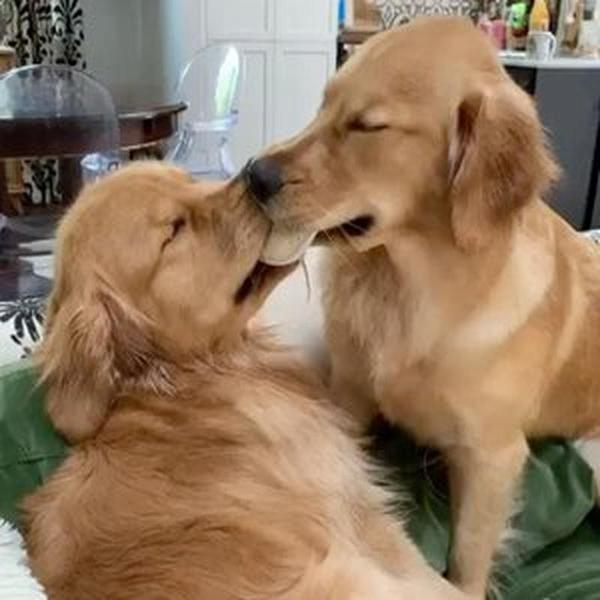allqu: (231, 8, 594, 598)
